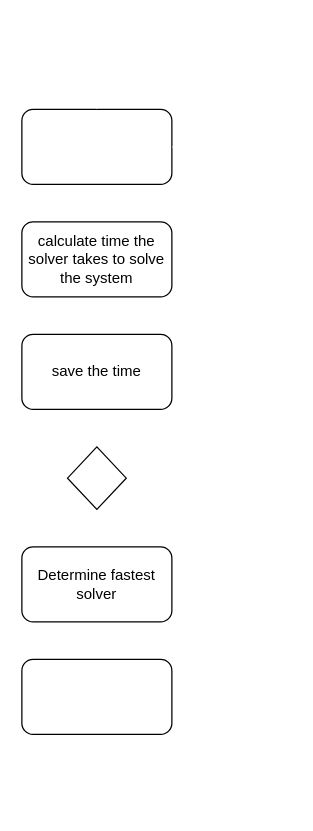
The diagram is 313 pixels wide and 831 high, and some of its shapes have lost their labels. The shapes that lost their labels are listed below. From the top down, each one's box as (x1, y1, x2, y2) in pixels, then its label:
(21, 108, 172, 184): Choose solver
(21, 658, 172, 734): return fastest solver
